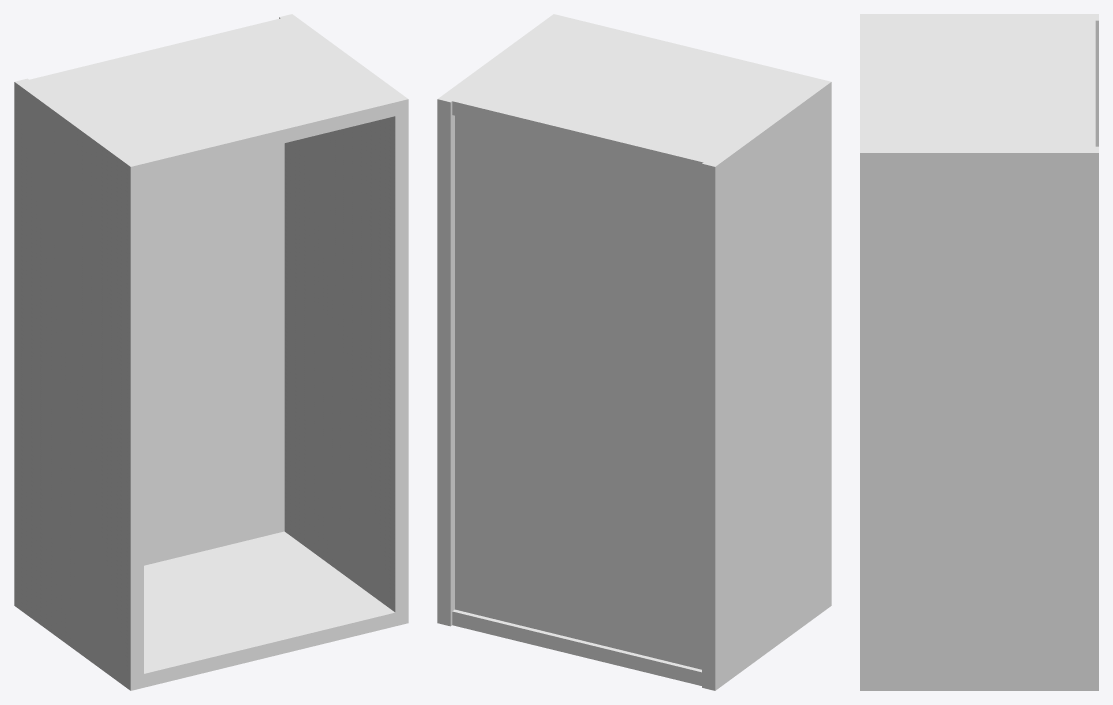
Rendered from corpus_top_40.glb.
The picture shows the model from 3 angles, left to right: view 1: azimuth 30°, elevation 25°; view 2: azimuth 150°, elevation 25°; view 3: azimuth 270°, elevation 25°; orthographic projection. The views are drawn at different scales.
Parts seen in each view (by area): view 1: corpus_top_40; view 2: corpus_top_40; view 3: corpus_top_40.
Part boxes in pixels (left/top/right/bottom): corpus_top_40: left=14, top=14, right=408, bottom=690; corpus_top_40: left=437, top=14, right=831, bottom=690; corpus_top_40: left=860, top=14, right=1098, bottom=690.
Bounding box in the file's own units: 0.3998 × 0.7207 × 0.29.
1 material, 1 textured.
